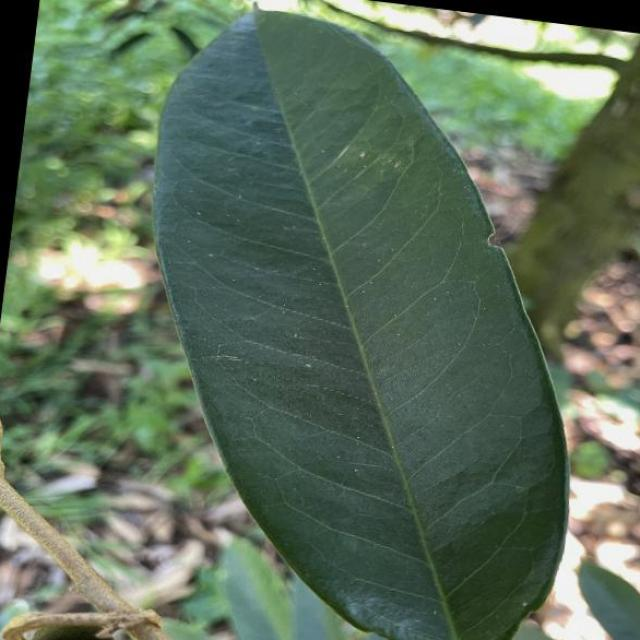No Disease: (85, 0, 635, 640)
